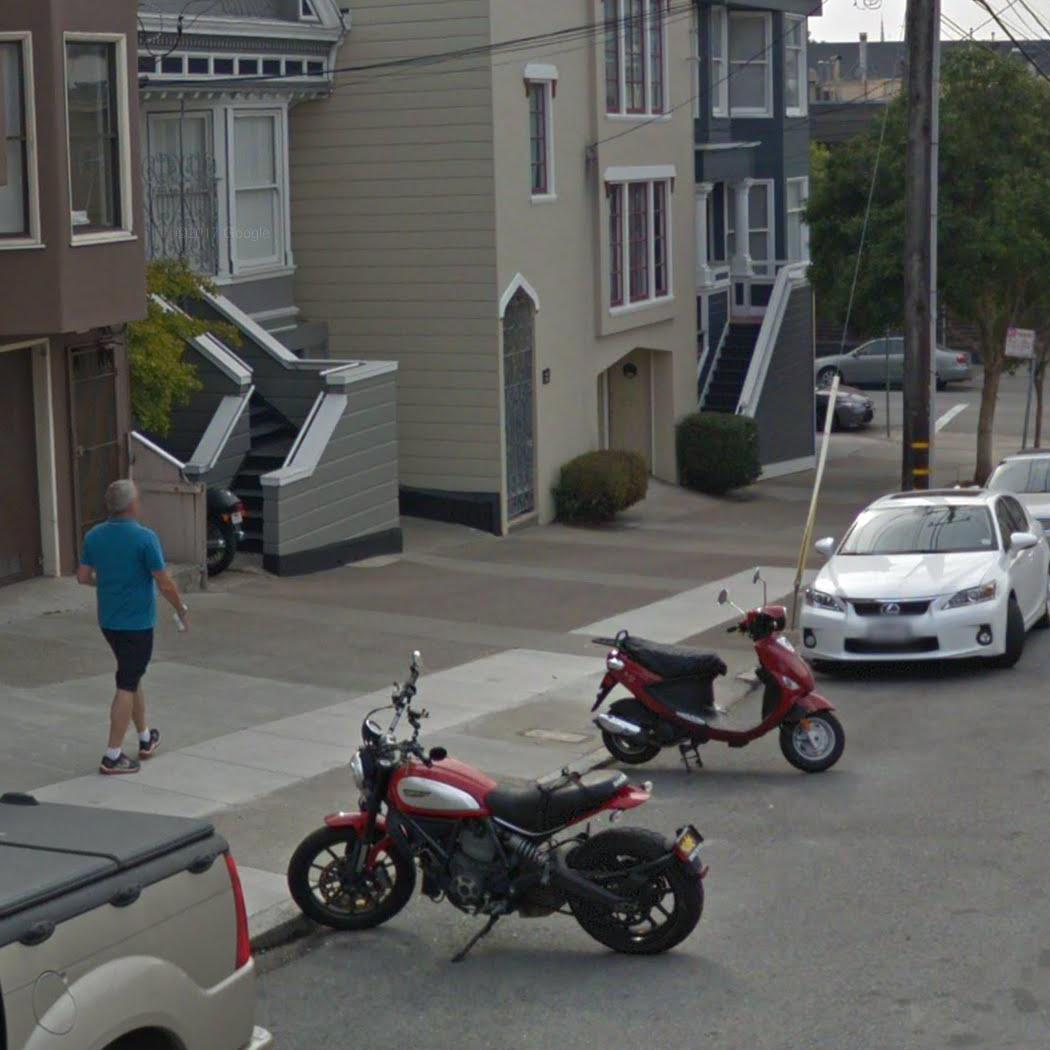No Parking: (1004, 326, 1037, 361)
